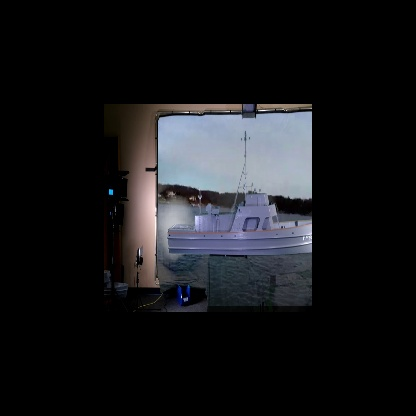YP689: (166, 128, 312, 255)
